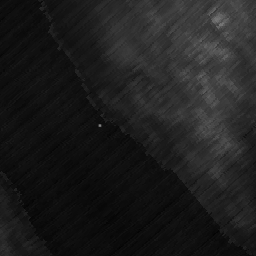Target: (97, 122, 102, 128)
